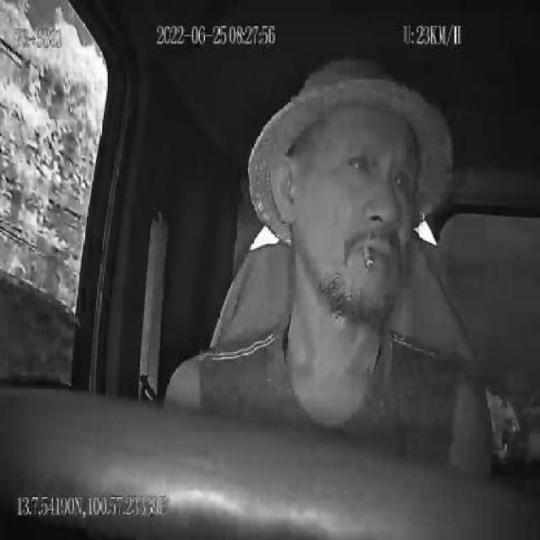smoking: (361, 237, 375, 274)
